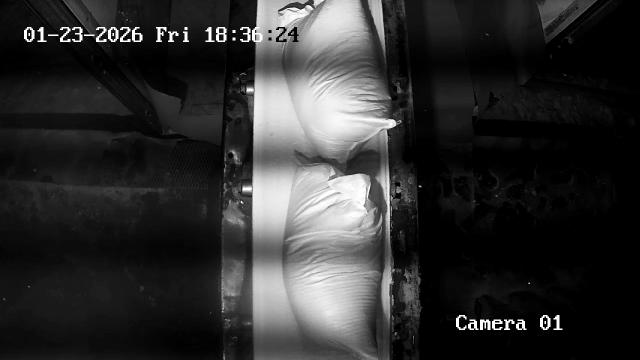bag: (283, 156, 382, 360), (280, 0, 395, 170)
